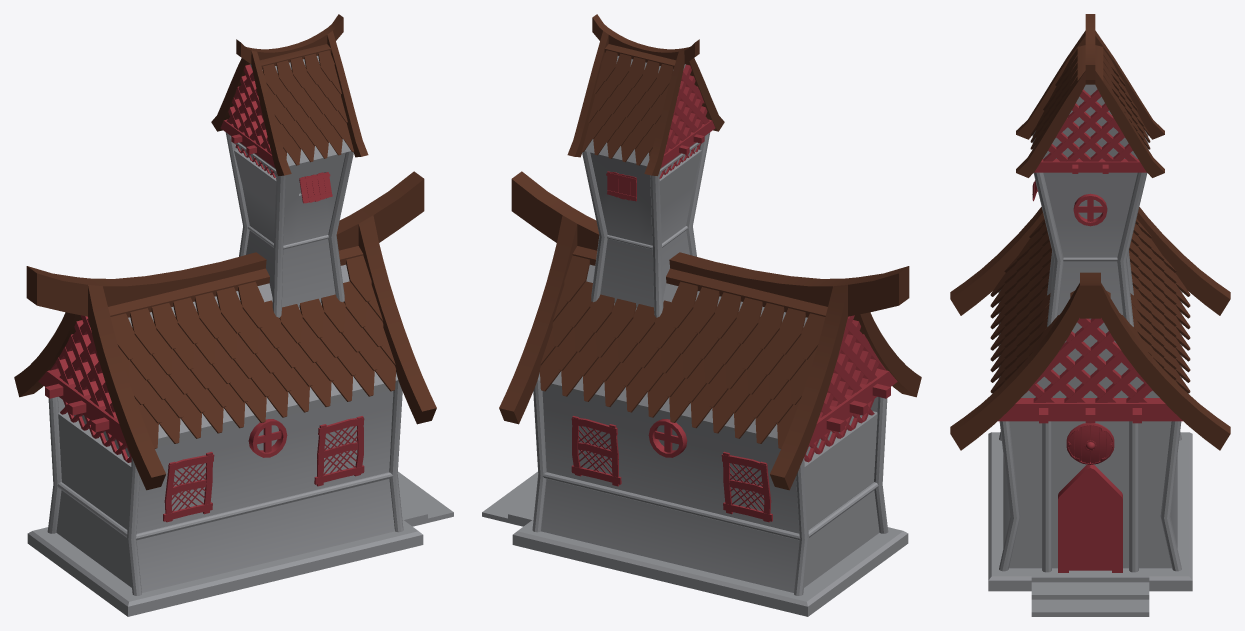
Rendered from Church.fbx.
3 views of the same model, side by side, from view 1: azimuth 30°, elevation 25°; view 2: azimuth 150°, elevation 25°; view 3: azimuth 270°, elevation 25° (orthographic).
Parts seen in each view (by area): view 1: 2, 3, 1; view 2: 2, 3, 1; view 3: 2, 3, 1.
Boxes of the visible parts, bbox=[...] form: 2: bbox=[27, 56, 453, 616]; 3: bbox=[14, 14, 436, 490]; 1: bbox=[38, 64, 364, 522]; 2: bbox=[482, 56, 908, 616]; 3: bbox=[499, 14, 921, 490]; 1: bbox=[571, 64, 897, 522]; 2: bbox=[988, 84, 1192, 616]; 3: bbox=[950, 14, 1230, 450]; 1: bbox=[998, 89, 1182, 572].
Bounding box in the file's own units: 652 × 793 × 394.
